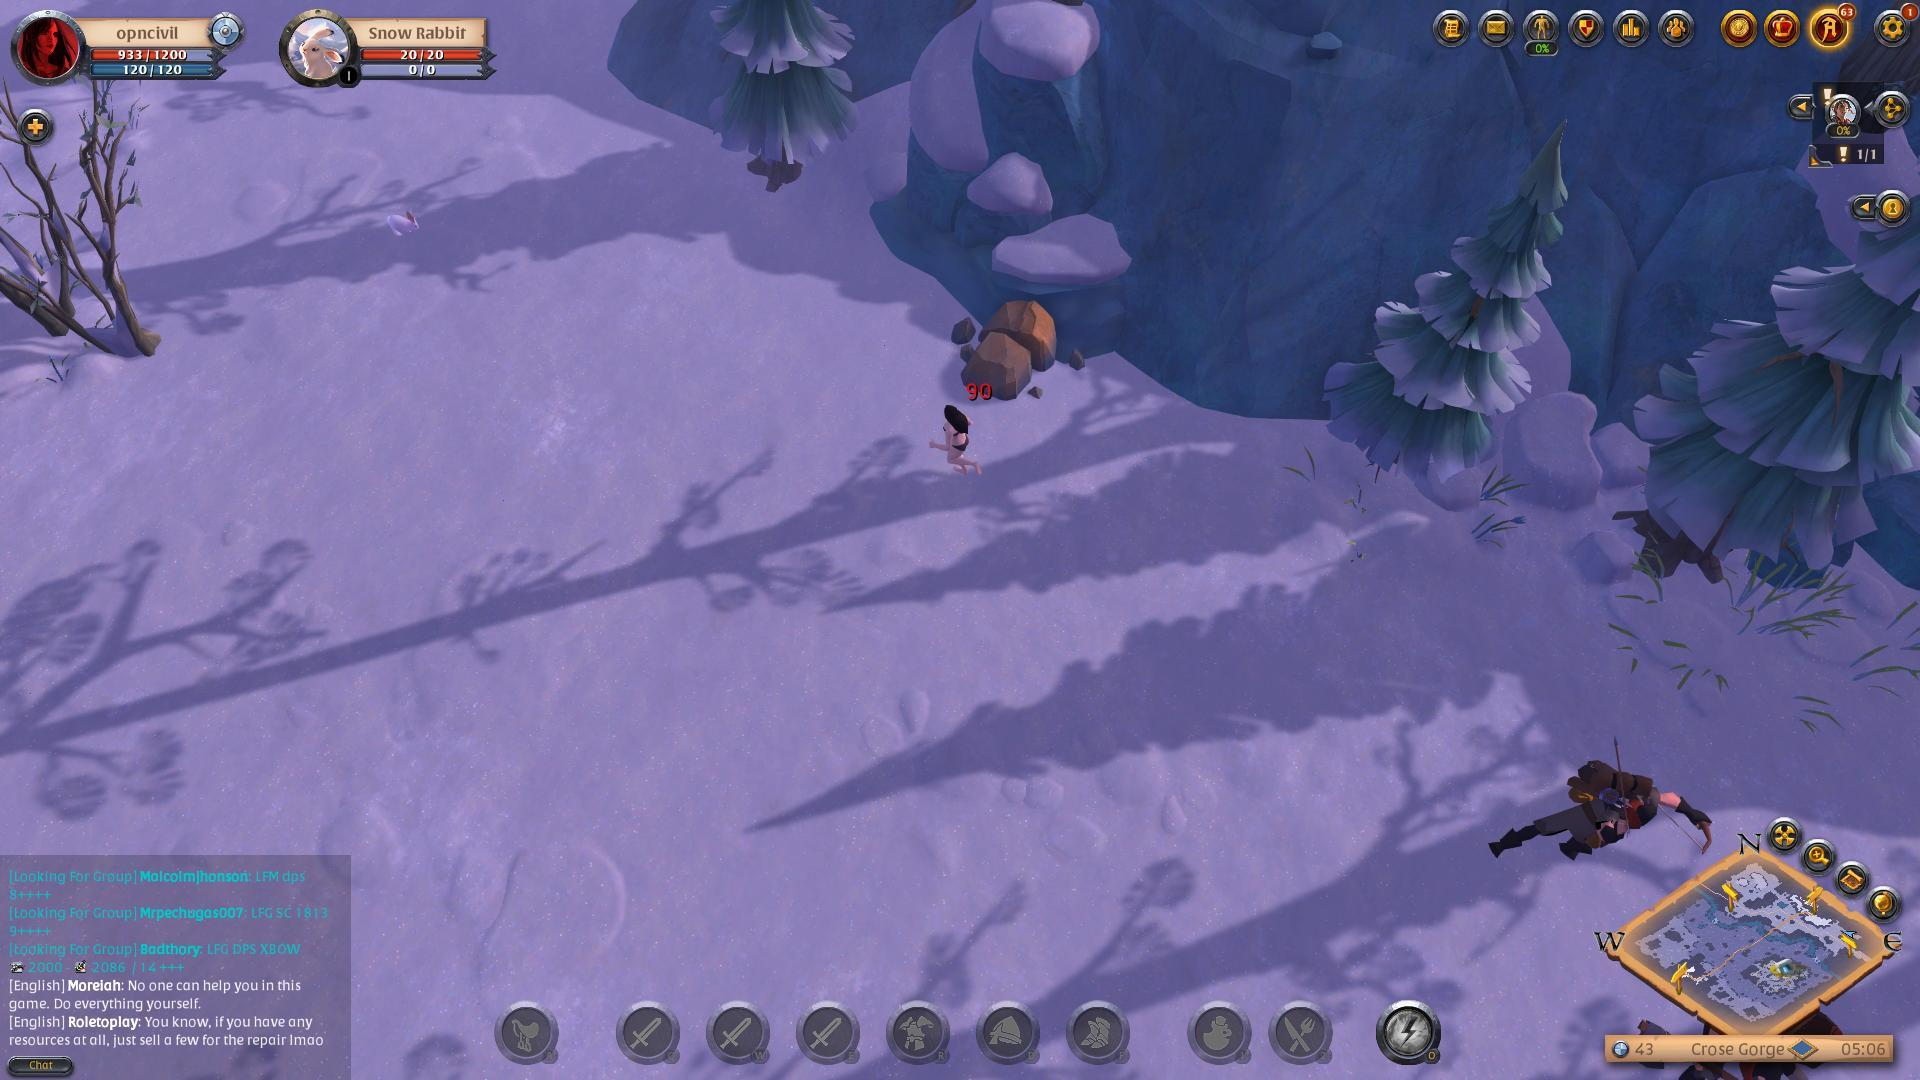limestone: (944, 298, 1080, 409)
mob: (1485, 742, 1713, 870)
